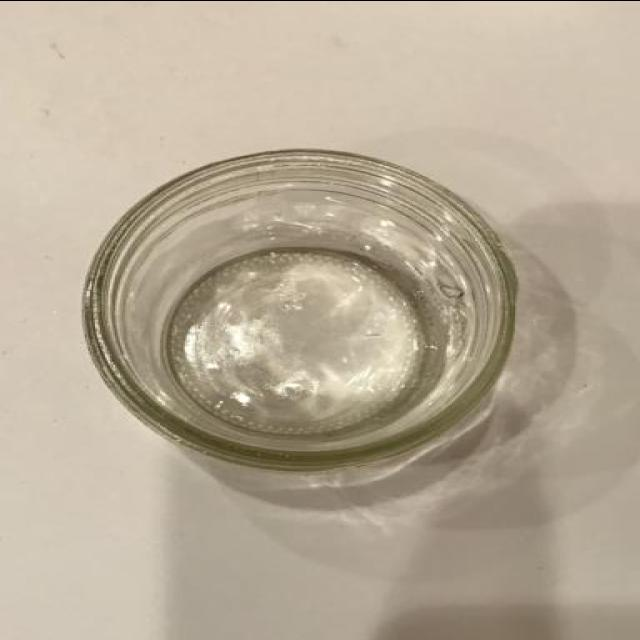glass: (68, 136, 544, 512)
